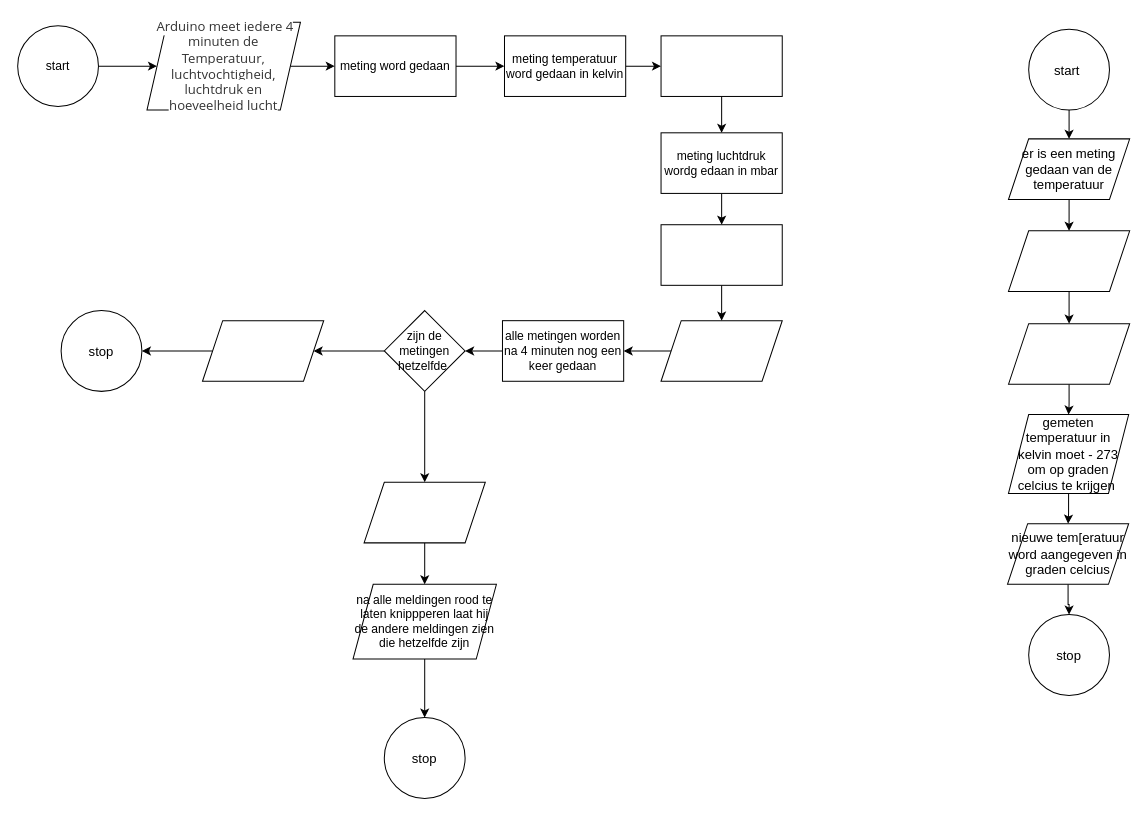
Some shapes in this 1147 by 816 pixel diagram are drawn without their labels. Here are the shapes that lost their labels. From the top down, the box of each, then its label:
(660, 35, 782, 96): meting lochtvogtigheid word gedaan in %
(660, 224, 782, 285): meting licht word gedaan in lux
(1007, 230, 1130, 291): de temperatuur wordt aangegeven in kelvin
(201, 320, 324, 381): het scherm laat alle metingen zien
(660, 320, 782, 381): alle metingen worden weergegeven op een scherm
(1007, 323, 1130, 384): het moet aangegeven worden in graden celcius
(363, 481, 485, 543): het scherm knipperd rood bij de metingen die niet hetzelfde zijn
